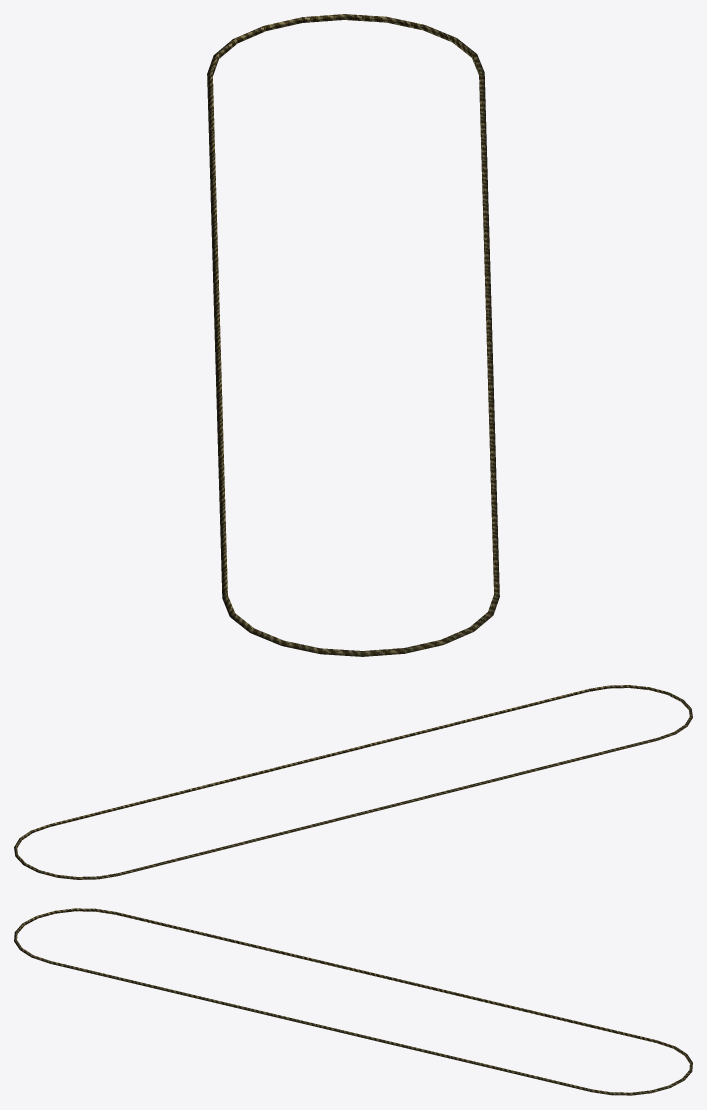
File: SWORDLIGHT20_MAINCAVROPE01CONV01.fbx
3 views of the same model, one above another, from view 1: azimuth 30°, elevation 25°; view 2: azimuth 150°, elevation 25°; view 3: azimuth 270°, elevation 25° (orthographic). The views are drawn at different scales.
Visible parts, largest first — view 1: SWORDLIGHT20_MAINCAVROPE01CONV01; view 2: SWORDLIGHT20_MAINCAVROPE01CONV01; view 3: SWORDLIGHT20_MAINCAVROPE01CONV01.
Boxes of the visible parts, x1,y1,x2,y2 form: SWORDLIGHT20_MAINCAVROPE01CONV01: [207, 14, 499, 656]; SWORDLIGHT20_MAINCAVROPE01CONV01: [14, 685, 692, 879]; SWORDLIGHT20_MAINCAVROPE01CONV01: [14, 908, 692, 1095].
Bounding box in the file's own units: 85385 × 633 × 131307.
1 material, 1 textured.
